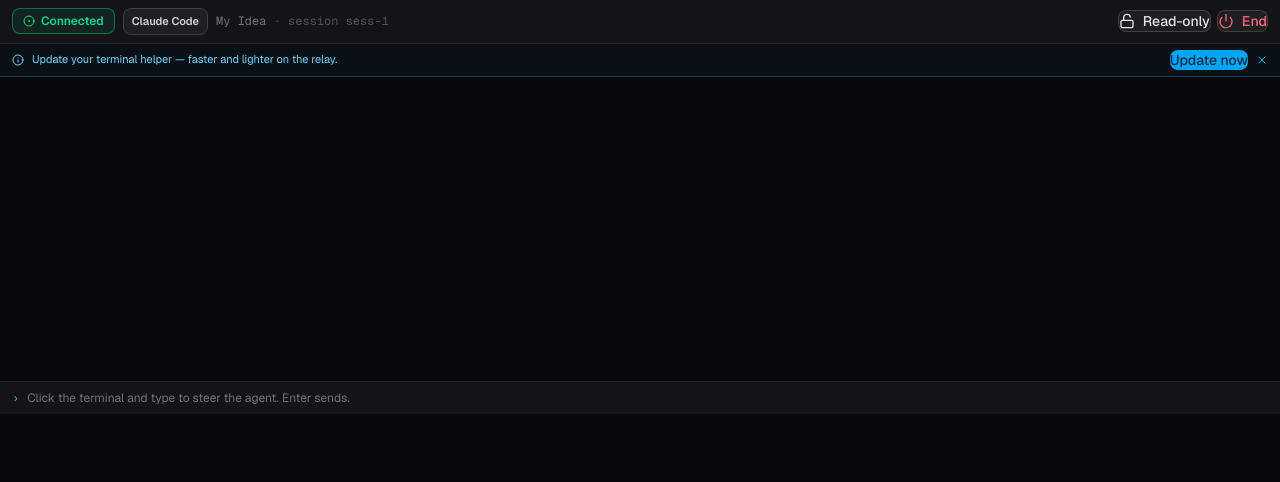
Test: TerminalSessionView — helper download affordances run the Update-now flow › with sessions running, the nudge's button asks to end them first — and 'Not now' backs out
Click the button "Update now".
click(1209, 60)  # box [1170,50,1248,70]
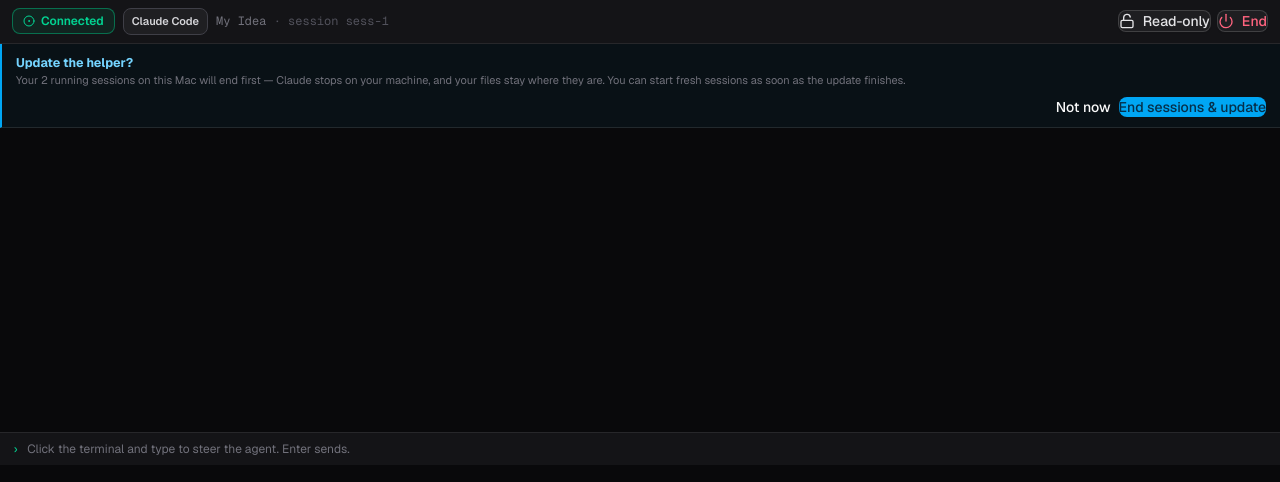
Check: the element with test id "helper-update-confirm" is shown, box [0,44,1279,128]
Check: the text "Your 2 running sessions on this Mac will end first" is shown, box [16,73,905,87]
Check: the button "Update now" is gone
Click the button "Not now".
click(1083, 107)  # box [1056,97,1110,117]
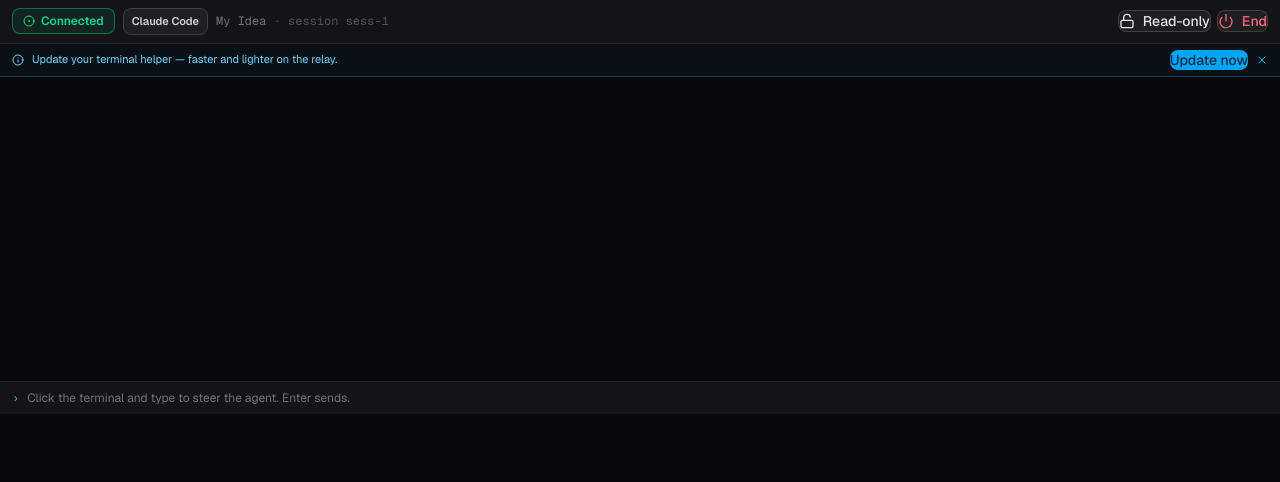
Check: the element with test id "helper-update-confirm" is gone
Check: the button "Update now" is shown, box [1170,50,1248,70]
